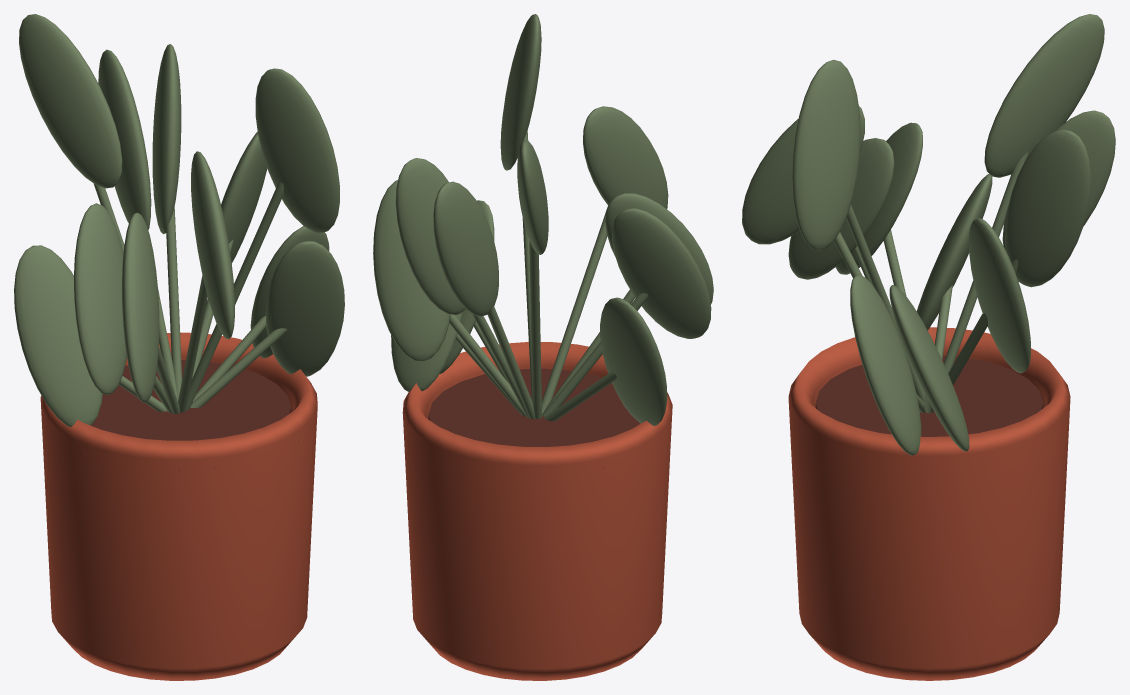
Rendered from interior-planter.glb.
The picture shows the model from 3 angles, left to right: view 1: azimuth 30°, elevation 25°; view 2: azimuth 150°, elevation 25°; view 3: azimuth 270°, elevation 25°; orthographic projection. The views are drawn at different scales.
Visible parts, largest first — view 1: surface-#6F7F5F,0,0.7, surface-#B5543A,0,0.7, surface-#5A2E25,0,0.7; view 2: surface-#B5543A,0,0.7, surface-#6F7F5F,0,0.7, surface-#5A2E25,0,0.7; view 3: surface-#6F7F5F,0,0.7, surface-#B5543A,0,0.7, surface-#5A2E25,0,0.7.
Boxes of the visible parts, x1,y1,x2,y2 form: surface-#6F7F5F,0,0.7: (14, 14, 344, 426); surface-#B5543A,0,0.7: (40, 332, 317, 680); surface-#5A2E25,0,0.7: (81, 360, 298, 470); surface-#B5543A,0,0.7: (402, 342, 672, 680); surface-#6F7F5F,0,0.7: (373, 14, 713, 425); surface-#5A2E25,0,0.7: (428, 368, 640, 468); surface-#6F7F5F,0,0.7: (742, 14, 1115, 455); surface-#B5543A,0,0.7: (788, 327, 1070, 680); surface-#5A2E25,0,0.7: (815, 355, 1043, 464).
Bounding box in the file's own units: 0.6266 × 1.21 × 0.689.
